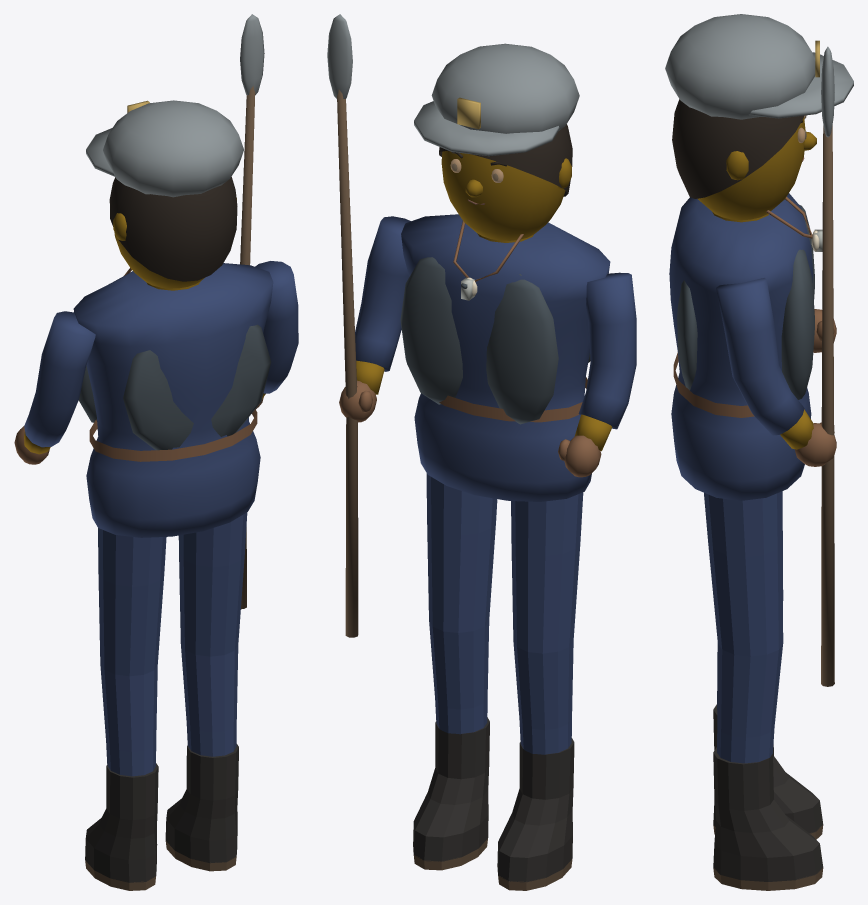
The model's file is SM_NPC_TIBURON.glb.
3 renders of one model, left to right at view 1: azimuth 30°, elevation 25°; view 2: azimuth 150°, elevation 25°; view 3: azimuth 270°, elevation 25°, orthographic. The views are drawn at different scales.
Parts seen in each view (by area): view 1: SM_NPC_TIBURON_BODY, SM_NPC_TIBURON_LEG_L, SM_NPC_TIBURON_HAIR, SM_NPC_TIBURON_LEG_R, SM_NPC_TIBURON_ARM_R, SM_NPC_TIBURON_ARM_L, SM_NPC_TIBURON_HEAD; view 2: SM_NPC_TIBURON_BODY, SM_NPC_TIBURON_LEG_L, SM_NPC_TIBURON_LEG_R, SM_NPC_TIBURON_HAIR, SM_NPC_TIBURON_ARM_R, SM_NPC_TIBURON_ARM_L, SM_NPC_TIBURON_HEAD; view 3: SM_NPC_TIBURON_BODY, SM_NPC_TIBURON_LEG_R, SM_NPC_TIBURON_HAIR, SM_NPC_TIBURON_ARM_R, SM_NPC_TIBURON_HEAD, SM_NPC_TIBURON_LEG_L, SM_NPC_TIBURON_ARM_L.
Part boxes in pixels (x1,y1,x2,y2): SM_NPC_TIBURON_BODY: (73, 263, 273, 537); SM_NPC_TIBURON_LEG_L: (85, 528, 166, 890); SM_NPC_TIBURON_HAIR: (86, 100, 243, 281); SM_NPC_TIBURON_LEG_R: (165, 512, 247, 871); SM_NPC_TIBURON_ARM_R: (240, 14, 298, 609); SM_NPC_TIBURON_ARM_L: (14, 311, 95, 464); SM_NPC_TIBURON_HEAD: (113, 198, 236, 288); SM_NPC_TIBURON_BODY: (400, 214, 610, 501); SM_NPC_TIBURON_LEG_L: (497, 492, 583, 890); SM_NPC_TIBURON_LEG_R: (413, 473, 497, 870); SM_NPC_TIBURON_HAIR: (414, 43, 579, 196); SM_NPC_TIBURON_ARM_R: (327, 14, 410, 637); SM_NPC_TIBURON_ARM_L: (558, 272, 636, 477); SM_NPC_TIBURON_HEAD: (441, 151, 571, 240); SM_NPC_TIBURON_BODY: (669, 193, 822, 500); SM_NPC_TIBURON_LEG_R: (704, 491, 823, 890); SM_NPC_TIBURON_HAIR: (665, 14, 853, 198); SM_NPC_TIBURON_ARM_R: (716, 46, 836, 686); SM_NPC_TIBURON_HEAD: (698, 117, 816, 220); SM_NPC_TIBURON_LEG_L: (713, 491, 823, 839); SM_NPC_TIBURON_ARM_L: (813, 309, 836, 352).
Bounding box in the file's own units: 0.7035 × 2.07 × 0.4062.
